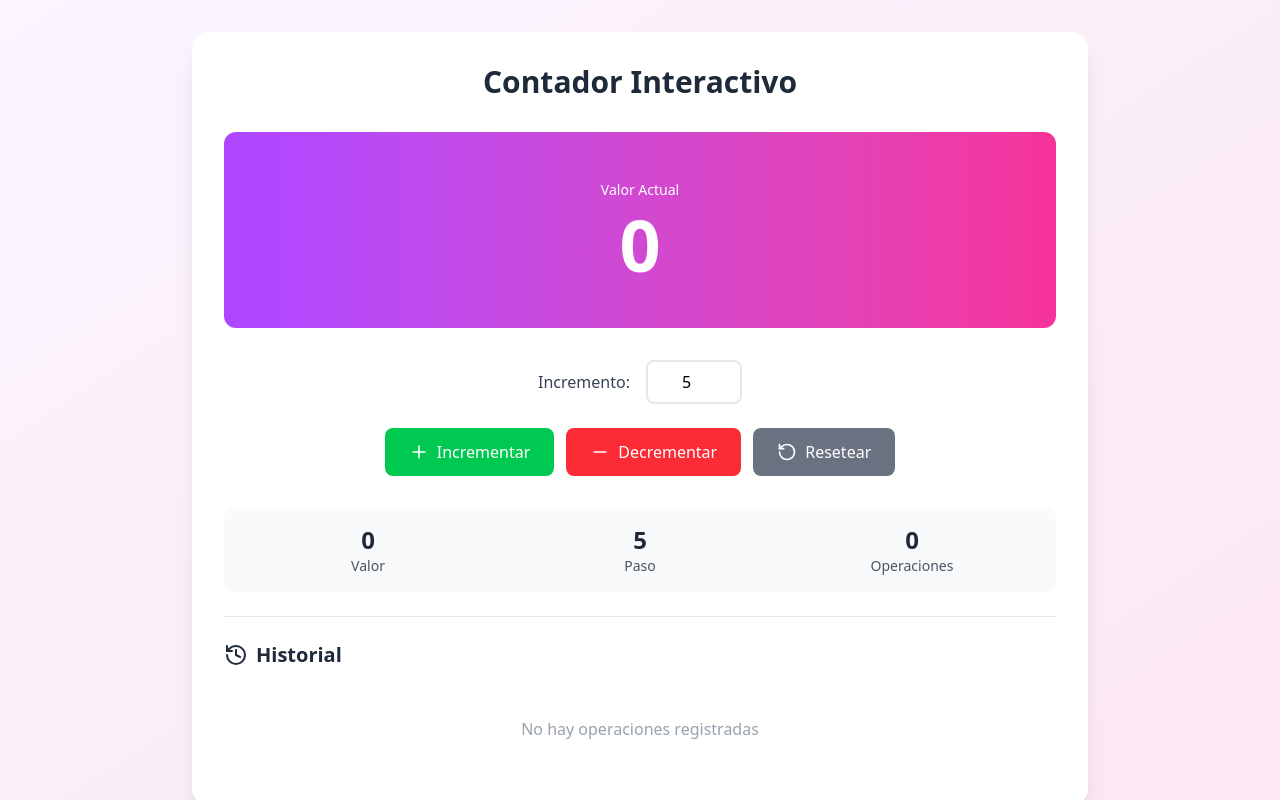
Test case: Bloque de pruebas para App de Counter › Funcionalidad de incremento › debe incrementar con pasos personalizados grandes
Replace the text in the number field labelled "Incremento:" with "10" at (694, 382), box [646,360,742,404]
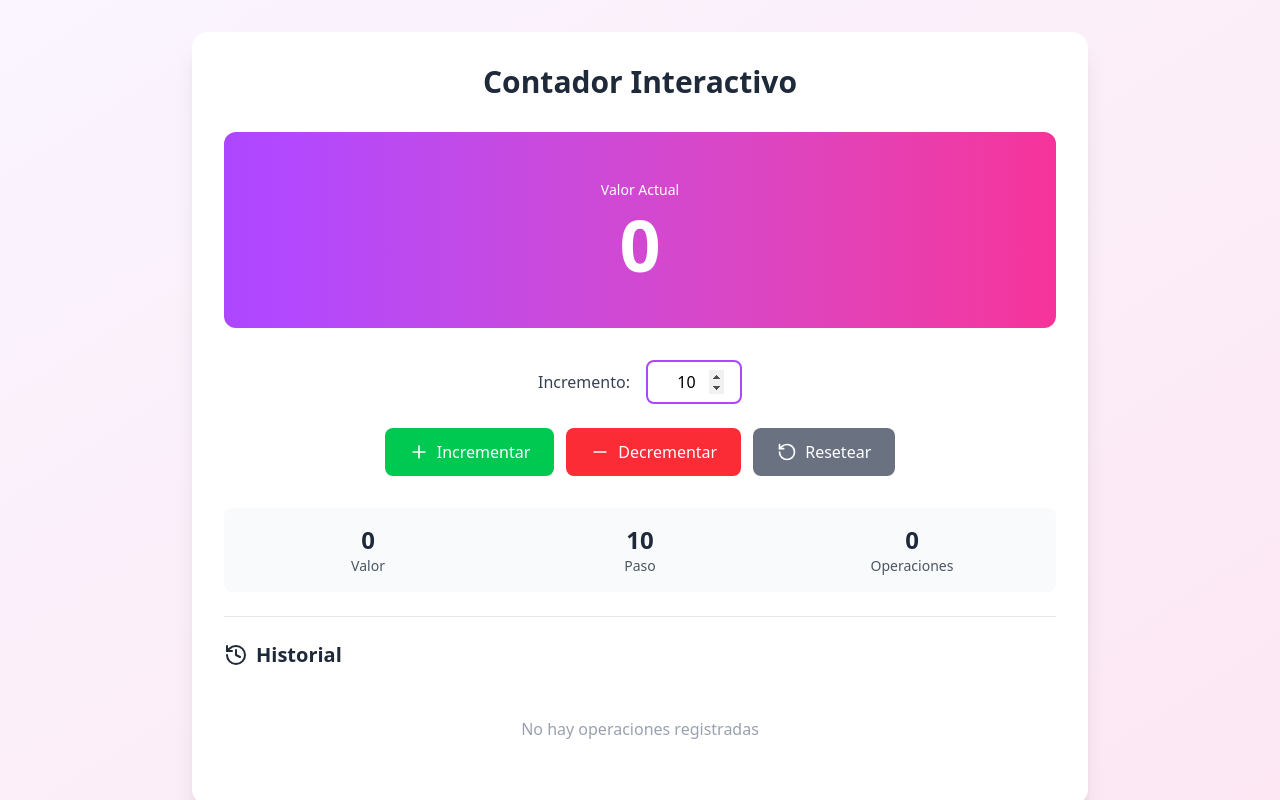
Click the button labelled "Incrementar" at (469, 452), box [385,428,554,476]
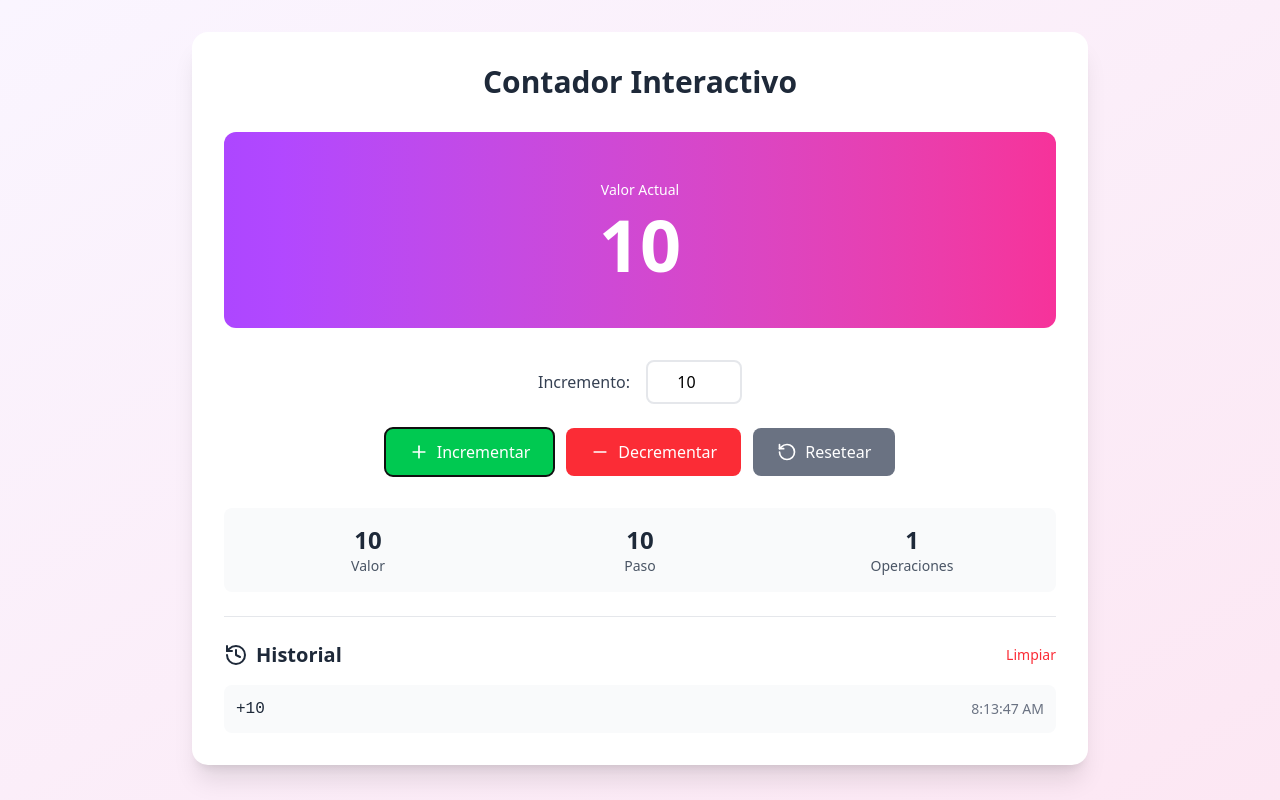
Click the button labelled "Incrementar" at (469, 452), box [385,428,554,476]
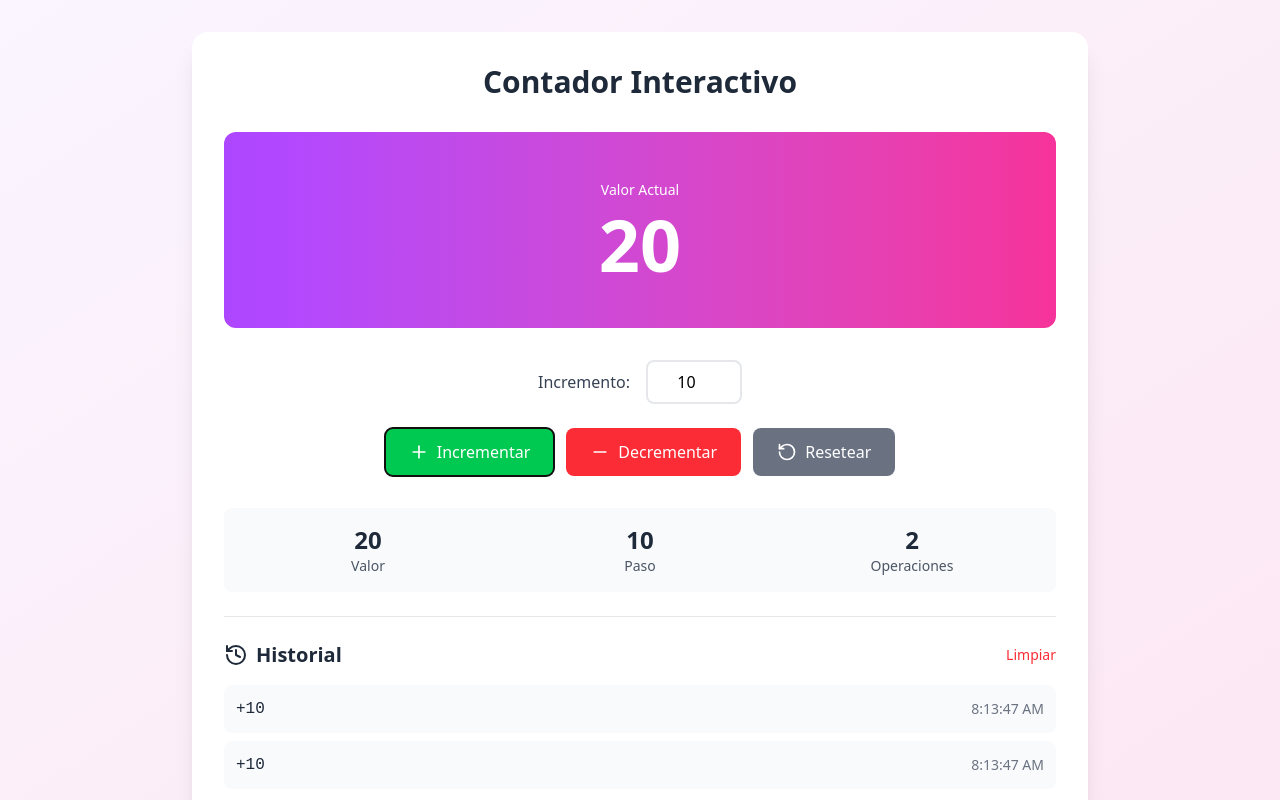
Now the text with test id "counter-value" reads "20", box [599,195,681,293]
